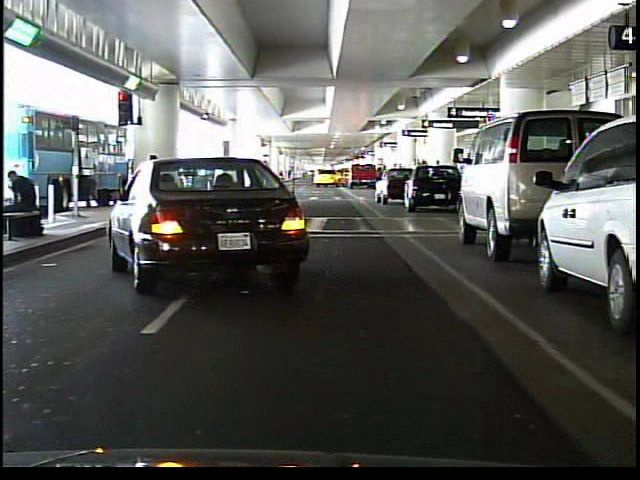person: (3, 165, 42, 244)
